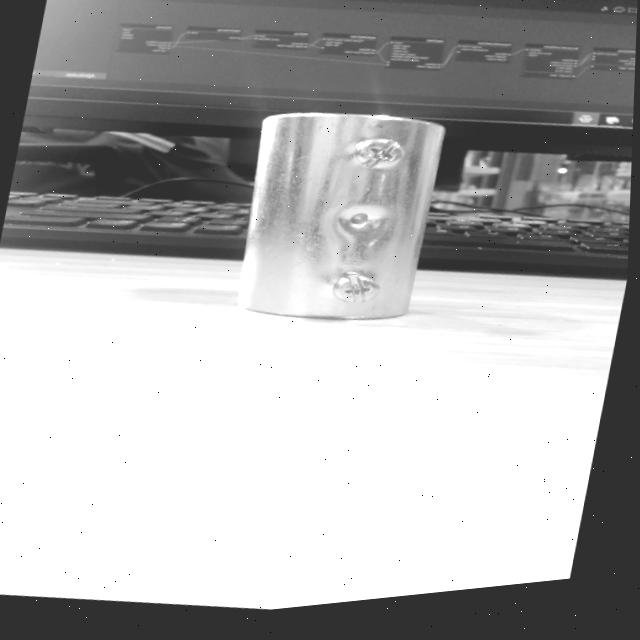Co_Nho: (236, 98, 445, 333)
